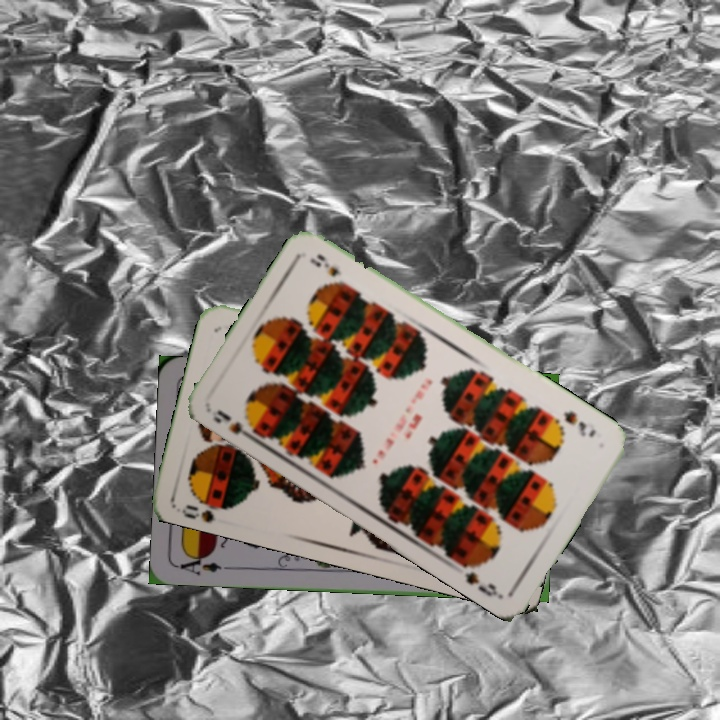EA: (174, 550, 233, 578)
S9: (208, 406, 261, 445), (559, 407, 599, 440)
SO: (177, 492, 236, 525)
